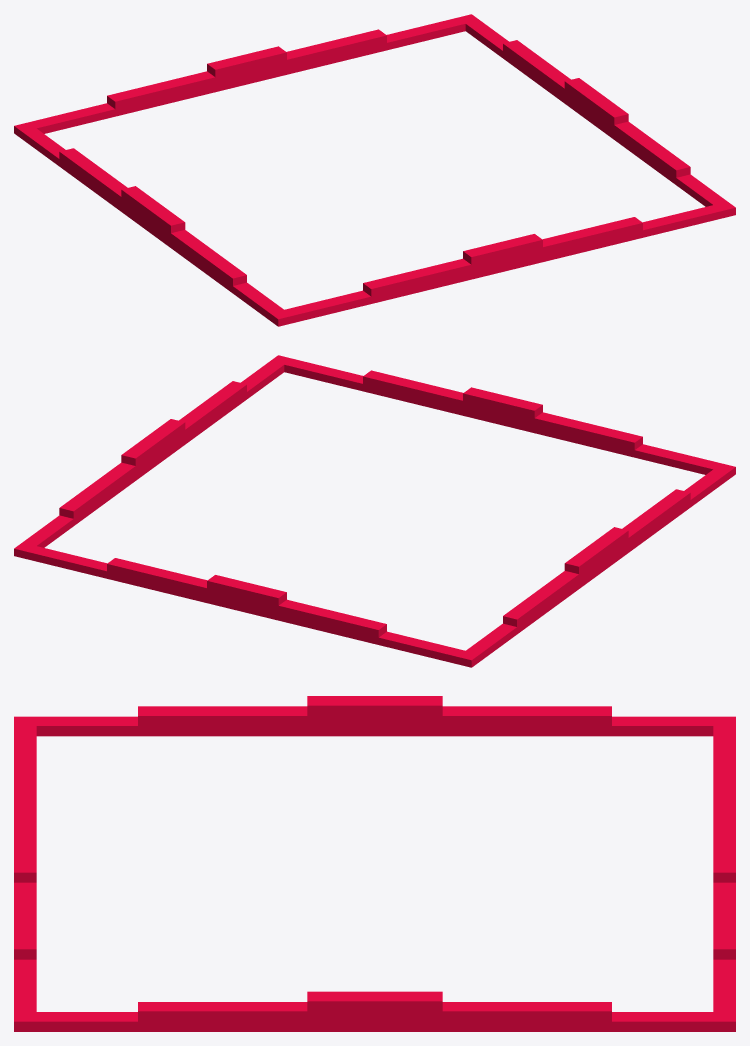
The model's file is towerSlice10.obj.
3 views of the same model, one above another, from view 1: azimuth 30°, elevation 25°; view 2: azimuth 150°, elevation 25°; view 3: azimuth 270°, elevation 25° (orthographic). The views are drawn at different scales.
Size of the model in its own units: 6.4 by 0.3 by 6.4.
